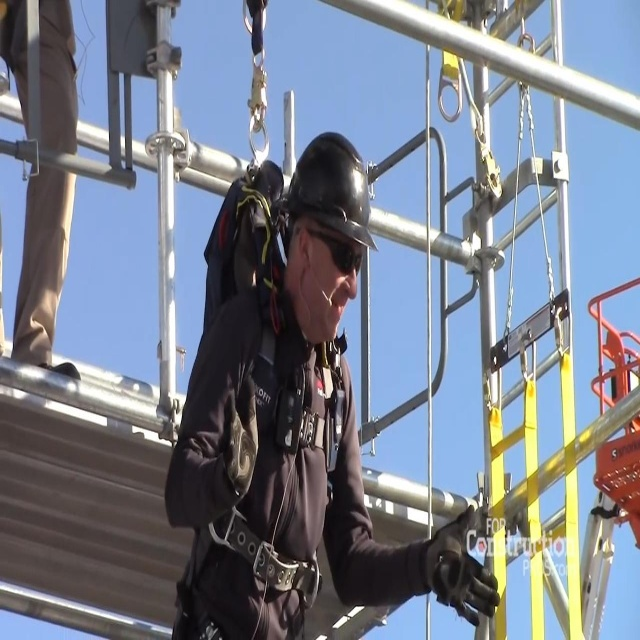Arnes_seguridad: (165, 153, 351, 640)
